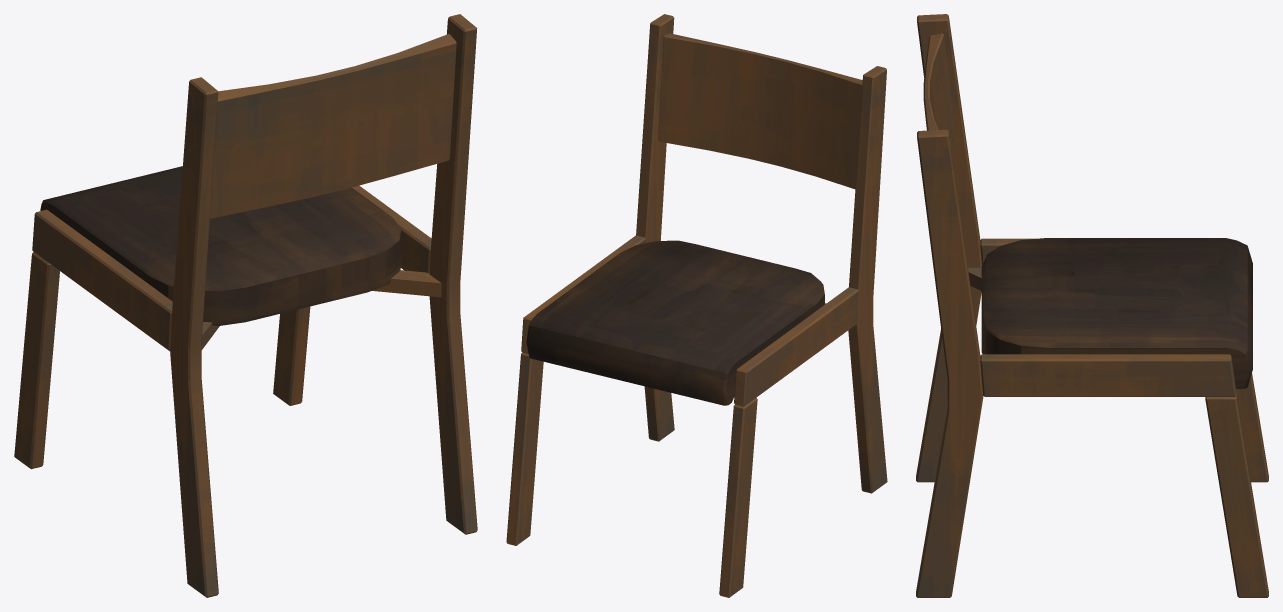
The model's file is Silla.obj.
The picture shows the model from 3 angles, left to right: view 1: azimuth 30°, elevation 25°; view 2: azimuth 150°, elevation 25°; view 3: azimuth 270°, elevation 25°; orthographic projection. The views are drawn at different scales.
Parts seen in each view (by area): view 1: Silla:Mesh0; view 2: Silla:Mesh0; view 3: Silla:Mesh0.
Part boxes in pixels (x1,y1,x2,y2): Silla:Mesh0: (14,14,477,597); Silla:Mesh0: (506,14,887,597); Silla:Mesh0: (916,14,1268,597).
Bounding box in the file's own units: 0.468 × 0.831 × 0.5733.
Materials: 1 (1 with a texture image).
